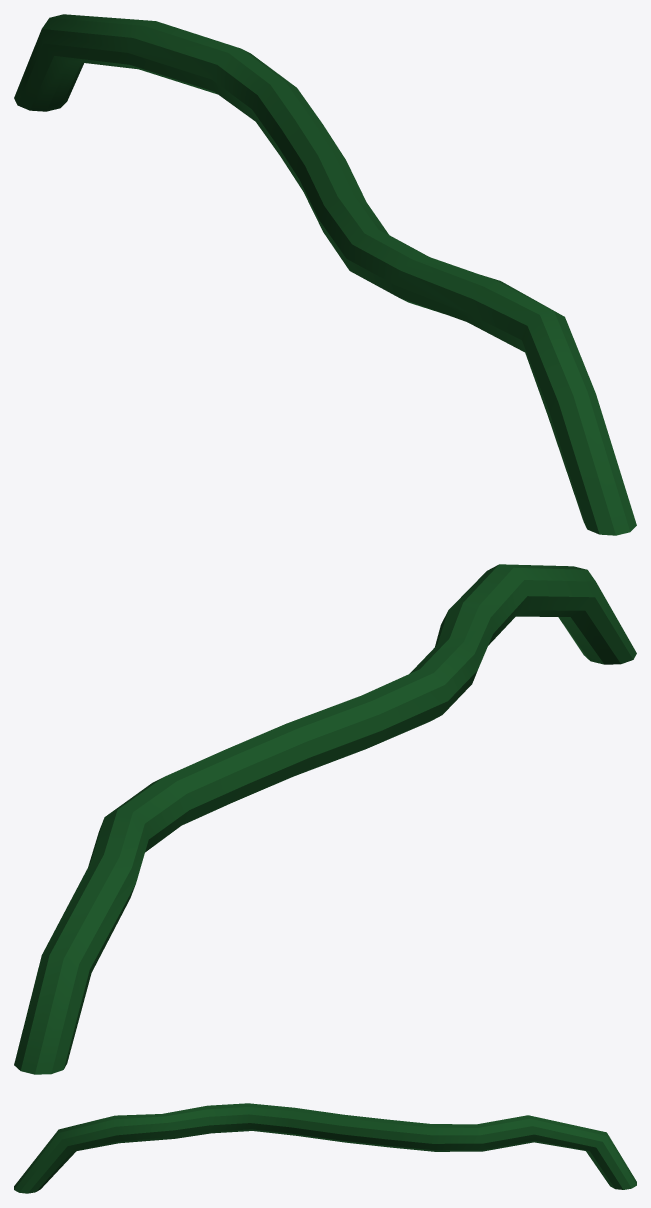
The model's file is Env_SingleVine.obj.
3 views of the same model, one above another, from view 1: azimuth 30°, elevation 25°; view 2: azimuth 150°, elevation 25°; view 3: azimuth 270°, elevation 25° (orthographic). The views are drawn at different scales.
Parts seen in each view (by area): view 1: pCylinder4; view 2: pCylinder4; view 3: pCylinder4.
Part boxes in pixels (<box>): pCylinder4: <box>14,14,636,535</box>; pCylinder4: <box>14,564,636,1074</box>; pCylinder4: <box>14,1103,636,1193</box>.
Size of the model in its own units: 26.18 by 28.42 by 211.
